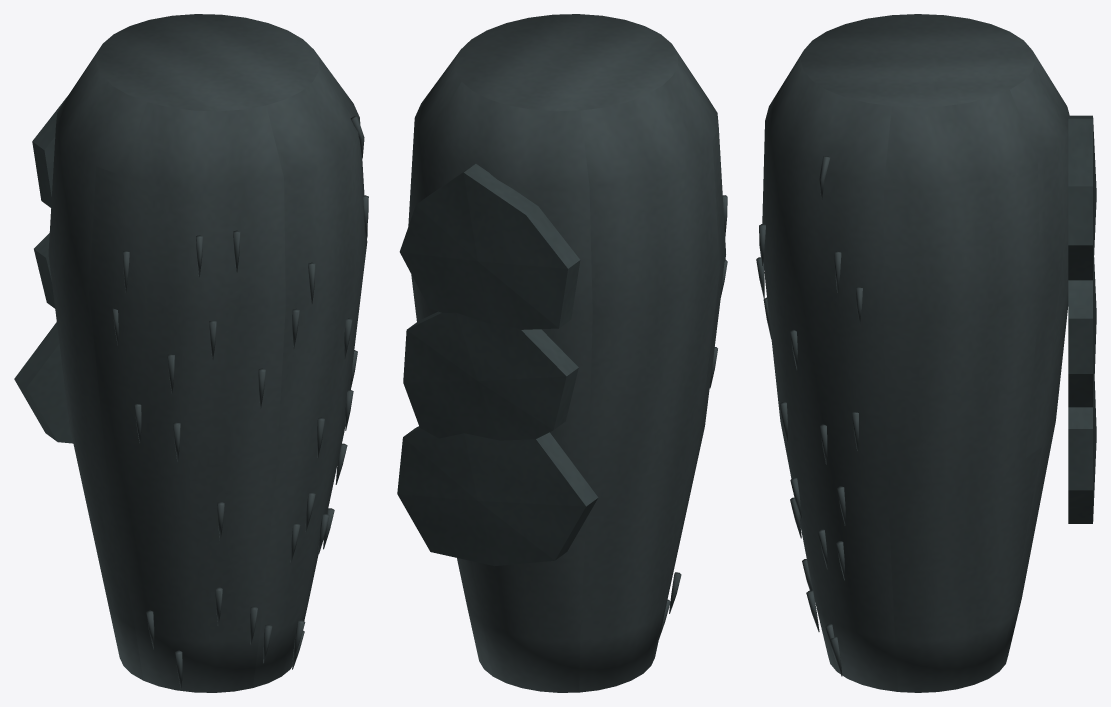
Rendered from thigh_l_lod0.glb.
3 renders of one model, left to right at view 1: azimuth 30°, elevation 25°; view 2: azimuth 150°, elevation 25°; view 3: azimuth 270°, elevation 25°, orthographic.
Parts seen in each view (by area): view 1: dormin_thigh_l_LOD0; view 2: dormin_thigh_l_LOD0; view 3: dormin_thigh_l_LOD0.
Part boxes in pixels (bbox=[...]): dormin_thigh_l_LOD0: bbox=[14, 14, 368, 692]; dormin_thigh_l_LOD0: bbox=[397, 14, 727, 692]; dormin_thigh_l_LOD0: bbox=[756, 14, 1096, 692].
Bounding box in the file's own units: 1.9 × 3.86 × 2.
2 materials, 2 textured.
